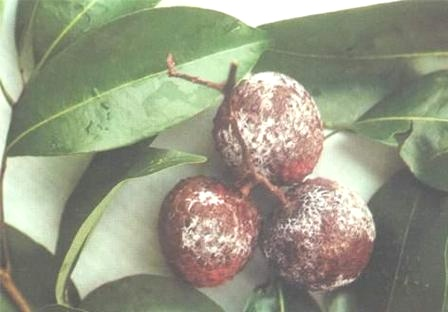Frost_Blight: (221, 36, 317, 173), (272, 184, 366, 289), (181, 192, 255, 264)
